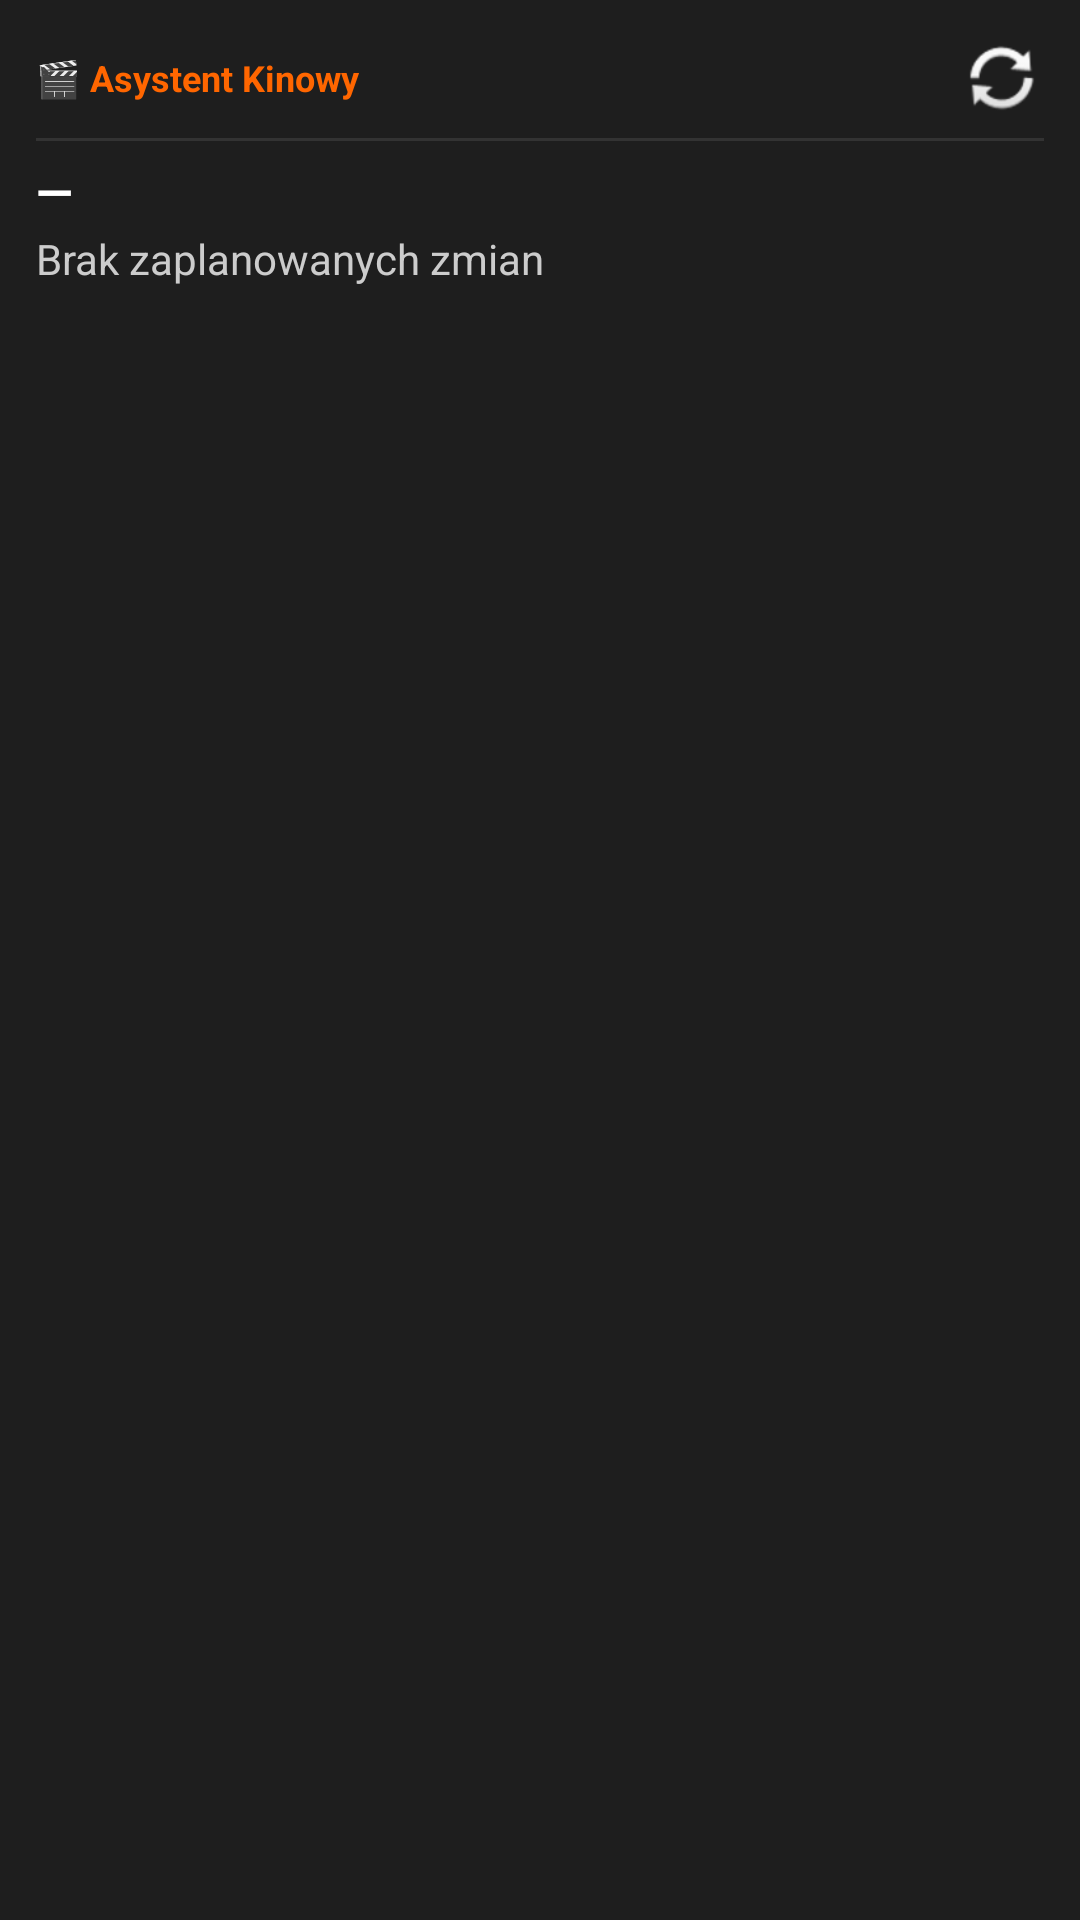

Icons on this 1080px×1920px Android screen, each with its box as rect(x1, y1, x2, y2):
Odśwież: rect(970, 46, 1034, 110)
